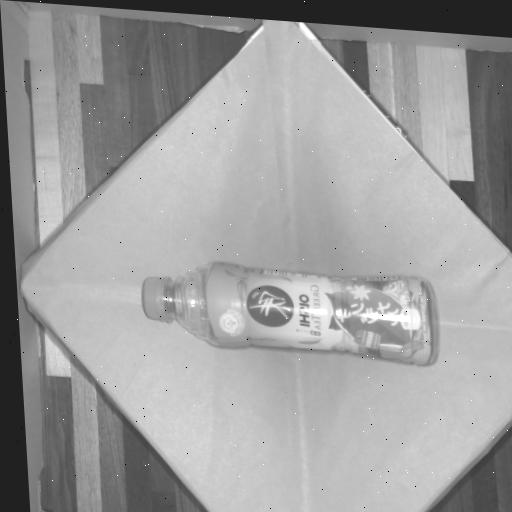bottle: (142, 263, 434, 364)
